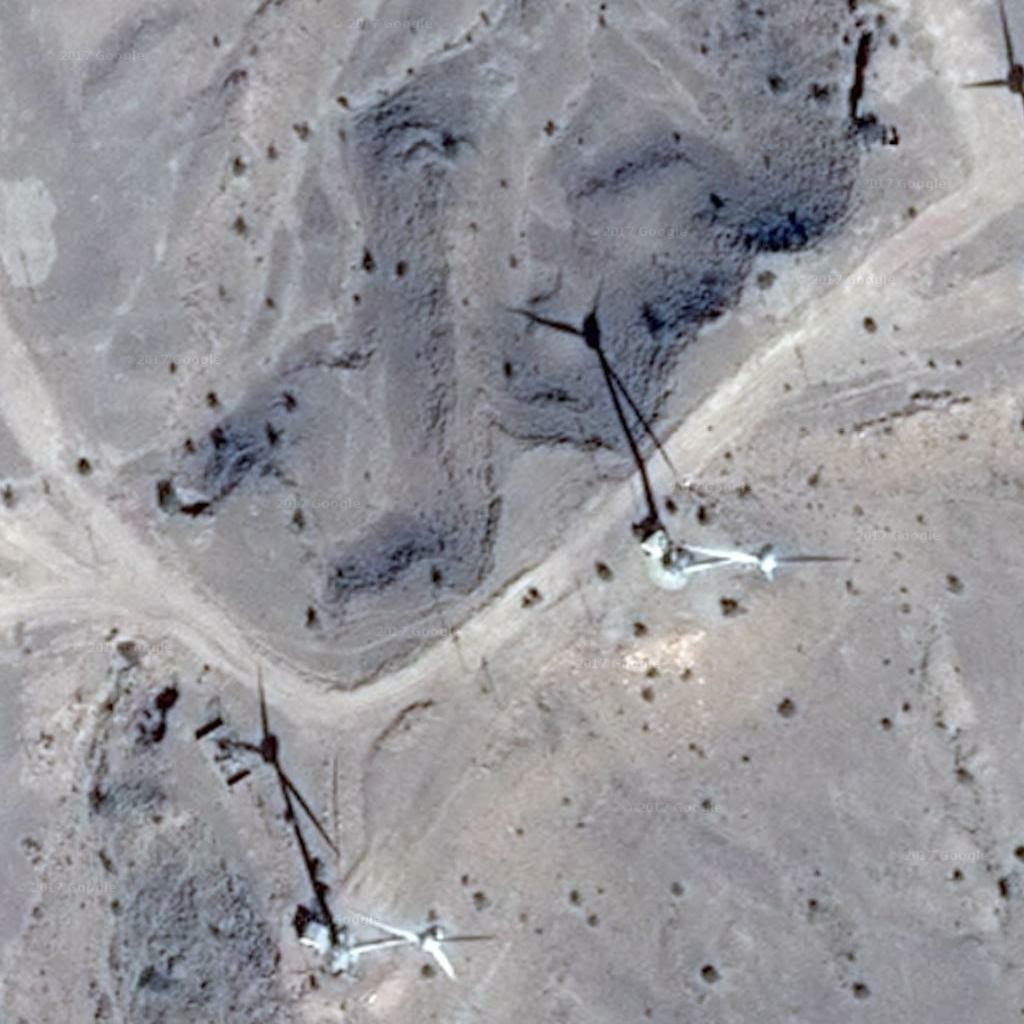Windmill: (501, 295, 695, 536)
